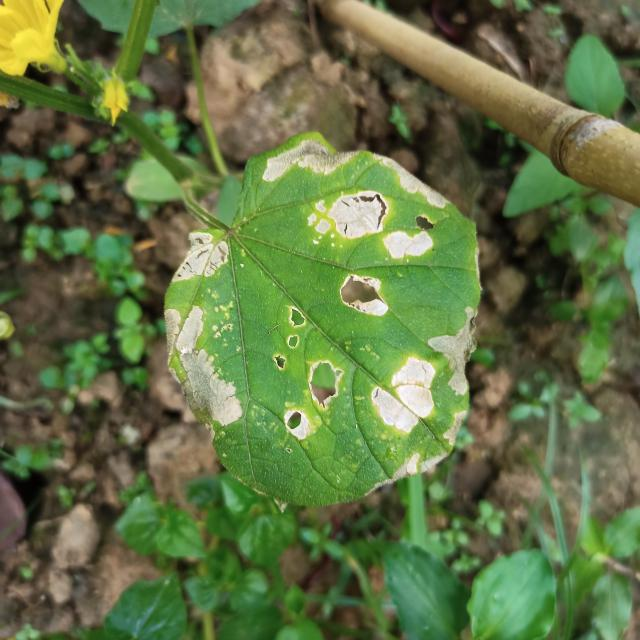disease_cucumber: (305, 263, 490, 481), (157, 225, 310, 450), (254, 132, 453, 262)
